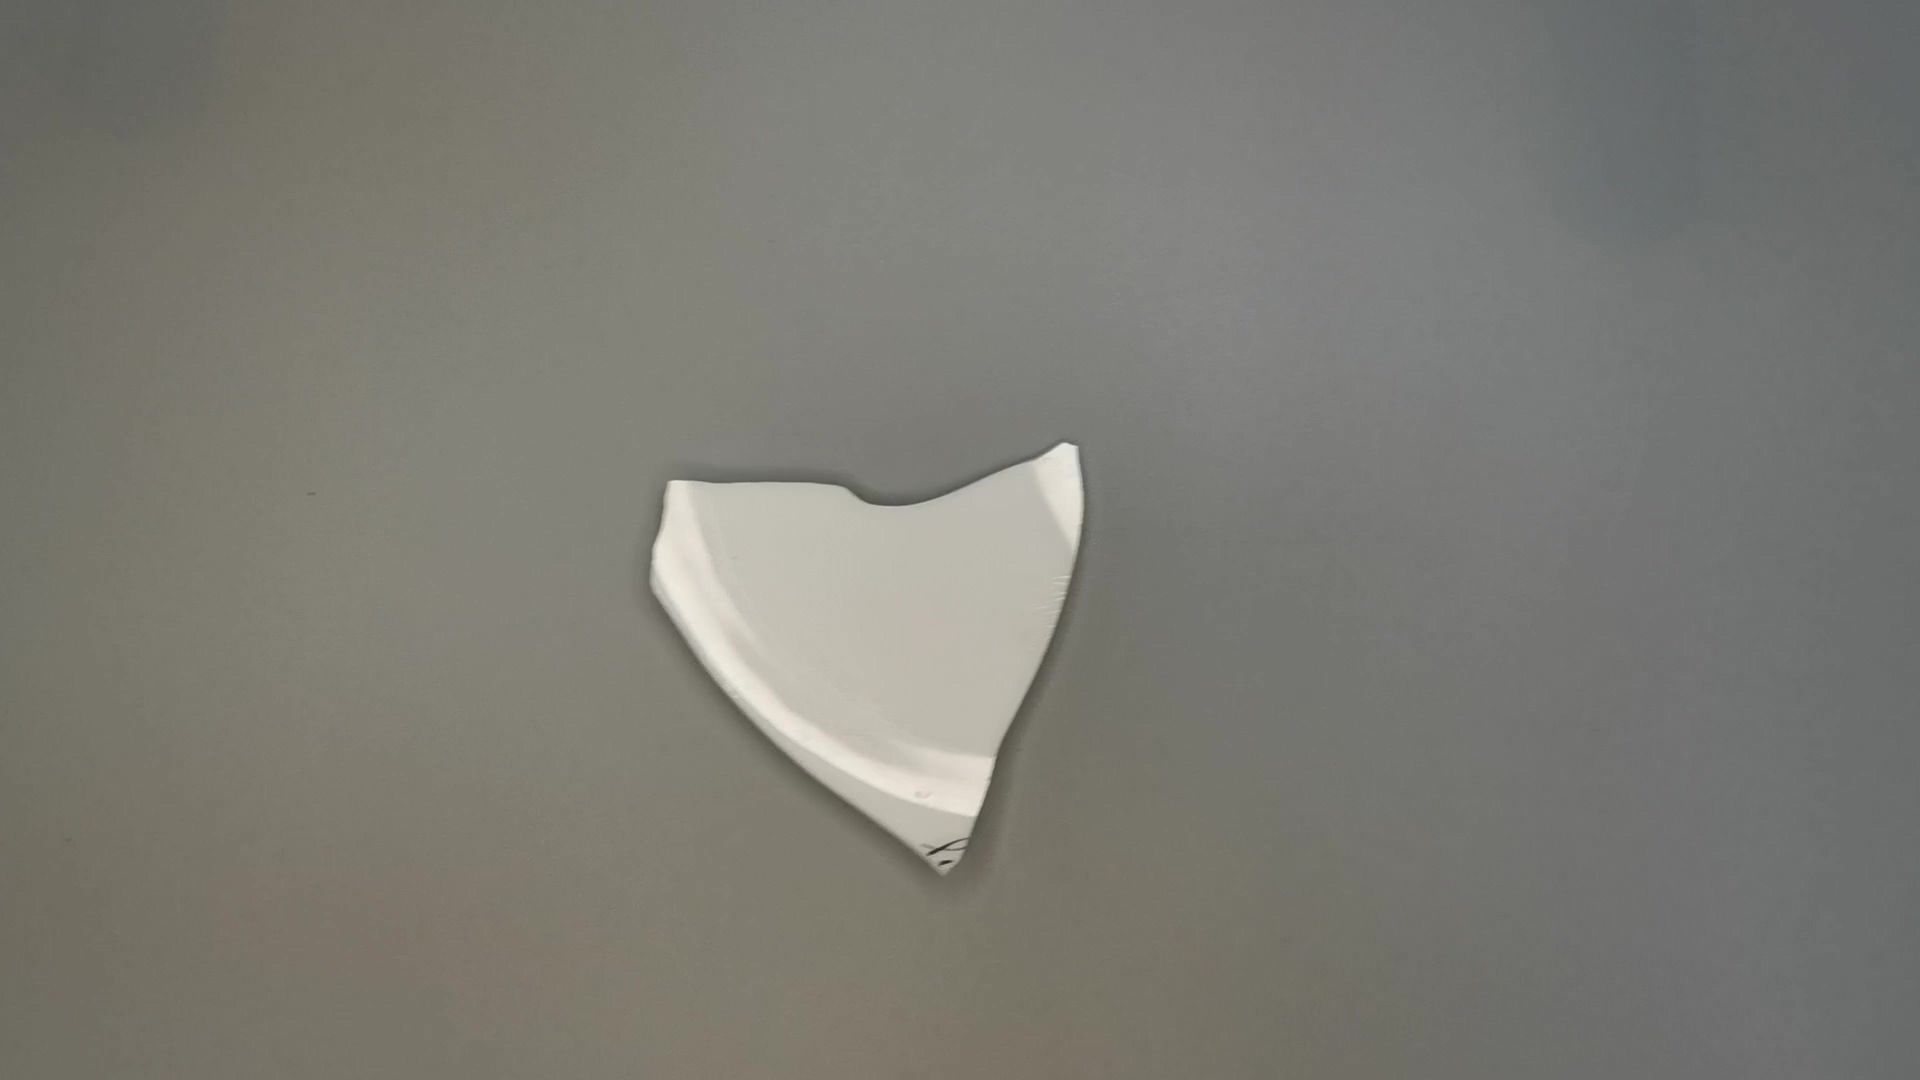ceramic: (644, 431, 1100, 893)
